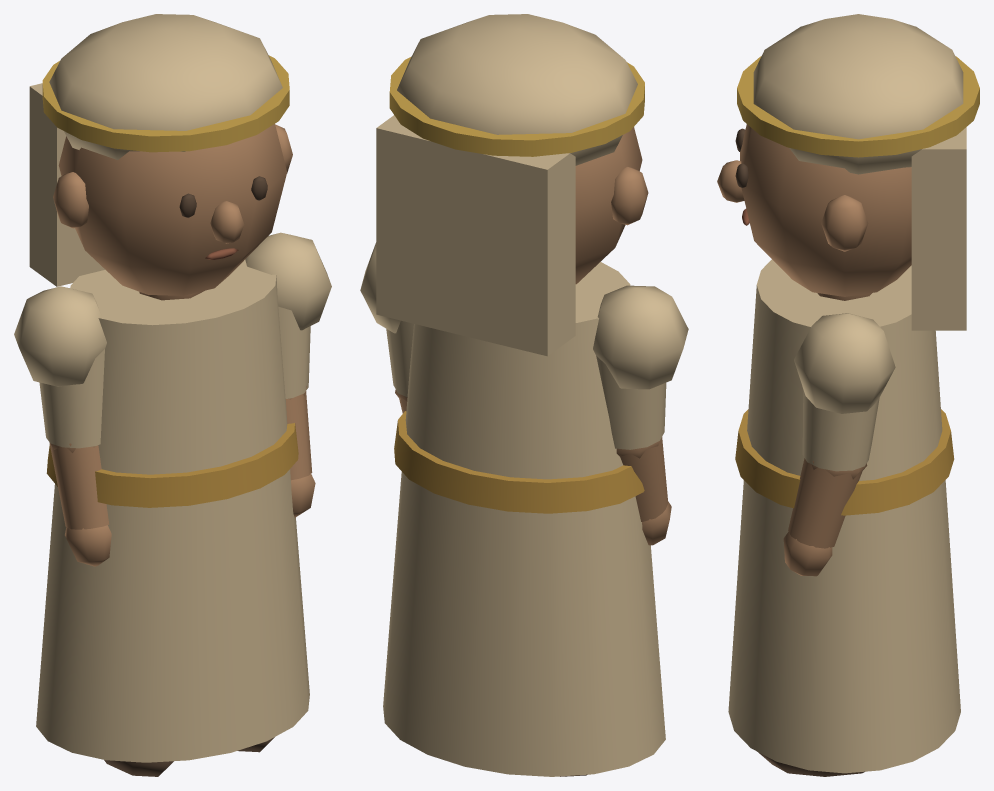
File: merchant.glb
3 views of the same model, side by side, from view 1: azimuth 30°, elevation 25°; view 2: azimuth 150°, elevation 25°; view 3: azimuth 270°, elevation 25° (orthographic). The views are drawn at different scales.
Parts seen in each view (by area): view 1: merchant-torso-surface, merchant-head-surface, merchant-left-shoulder-surface, -surface (×2), merchant-right-shoulder-surface, merchant-surface; view 2: merchant-torso-surface, merchant-head-surface, merchant-left-shoulder-surface, -surface, merchant-right-shoulder-surface; view 3: merchant-torso-surface, merchant-head-surface, merchant-right-shoulder-surface, -surface, merchant-surface.
Part boxes in pixels (box(x1,y1,x2,y2)): merchant-torso-surface: box(36, 259, 309, 762); merchant-head-surface: box(29, 14, 292, 295); merchant-left-shoulder-surface: box(14, 286, 106, 448); -surface (×2): box(49, 386, 315, 566); merchant-right-shoulder-surface: box(245, 232, 331, 398); merchant-surface: box(104, 737, 274, 776); merchant-torso-surface: box(383, 262, 665, 776); merchant-head-surface: box(376, 14, 648, 356); merchant-left-shoulder-surface: box(593, 285, 688, 449); -surface: box(616, 437, 671, 545); merchant-right-shoulder-surface: box(360, 242, 413, 397); merchant-torso-surface: box(728, 259, 960, 773); merchant-head-surface: box(717, 14, 979, 330); merchant-right-shoulder-surface: box(794, 313, 895, 471); -surface: box(783, 458, 867, 576); merchant-surface: box(758, 752, 864, 776).
Bounding box in the file's own units: 0.91 × 2.01 × 0.6691.
